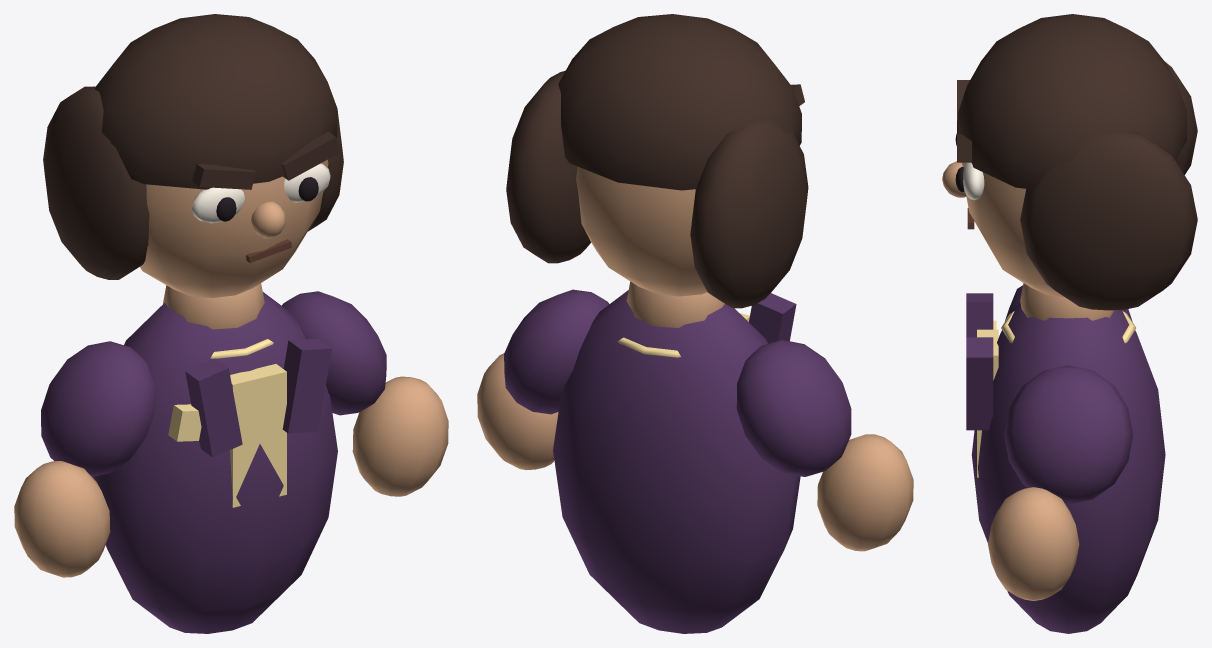
Rendered from default-female.glb.
3 views of the same model, side by side, from view 1: azimuth 30°, elevation 25°; view 2: azimuth 150°, elevation 25°; view 3: azimuth 270°, elevation 25° (orthographic).
Visible parts, largest first — view 1: floating-oval-body, hair-cap, sleeve (×2), mitten-hand (×2), hair-side (×2), head, jacket-lapel (×2), jacket-insert, neck, fierce-brow (×2), eye-white (×2), shoulder-badge (+1 smaller); view 2: floating-oval-body, hair-cap, hair-side (×2), sleeve (×2), mitten-hand (×2), head, neck, jacket-lapel; view 3: floating-oval-body, hair-cap, hair-side (×2), sleeve, mitten-hand, head, jacket-lapel (×2), neck, eye-white, jacket-insert, nose, collar (+1 smaller).
Boxes of the visible parts, box(x1,y1,x2,y2) form: floating-oval-body: box(92, 292, 337, 633); hair-cap: box(95, 14, 337, 189); sleeve (×2): box(41, 291, 386, 476); mitten-hand (×2): box(14, 376, 448, 577); hair-side (×2): box(43, 86, 343, 279); head: box(140, 159, 328, 297); jacket-lapel (×2): box(185, 338, 331, 457); jacket-insert: box(230, 364, 286, 507); neck: box(163, 283, 264, 329); fierce-brow (×2): box(192, 131, 340, 189); eye-white (×2): box(192, 163, 330, 223); shoulder-badge: box(168, 404, 201, 441); floating-oval-body: box(553, 290, 800, 633); hair-cap: box(558, 14, 801, 190); hair-side (×2): box(506, 70, 808, 308); sleeve (×2): box(504, 289, 851, 476); mitten-hand (×2): box(477, 353, 913, 551); head: box(576, 166, 707, 296); neck: box(626, 281, 724, 327); jacket-lapel: box(749, 293, 796, 343); floating-oval-body: box(971, 303, 1165, 633); hair-cap: box(958, 14, 1187, 189); hair-side (×2): box(1020, 61, 1197, 310); sleeve: box(1004, 365, 1132, 504); mitten-hand: box(988, 487, 1079, 600); head: box(962, 161, 1175, 297); jacket-lapel (×2): box(966, 293, 993, 430); neck: box(1020, 283, 1114, 320); eye-white: box(963, 162, 984, 200); jacket-insert: box(977, 329, 998, 477); nose: box(942, 161, 966, 197); collar: box(1001, 311, 1135, 343).
Size of the model in its own units: 1.8 by 2.45 by 0.95.
